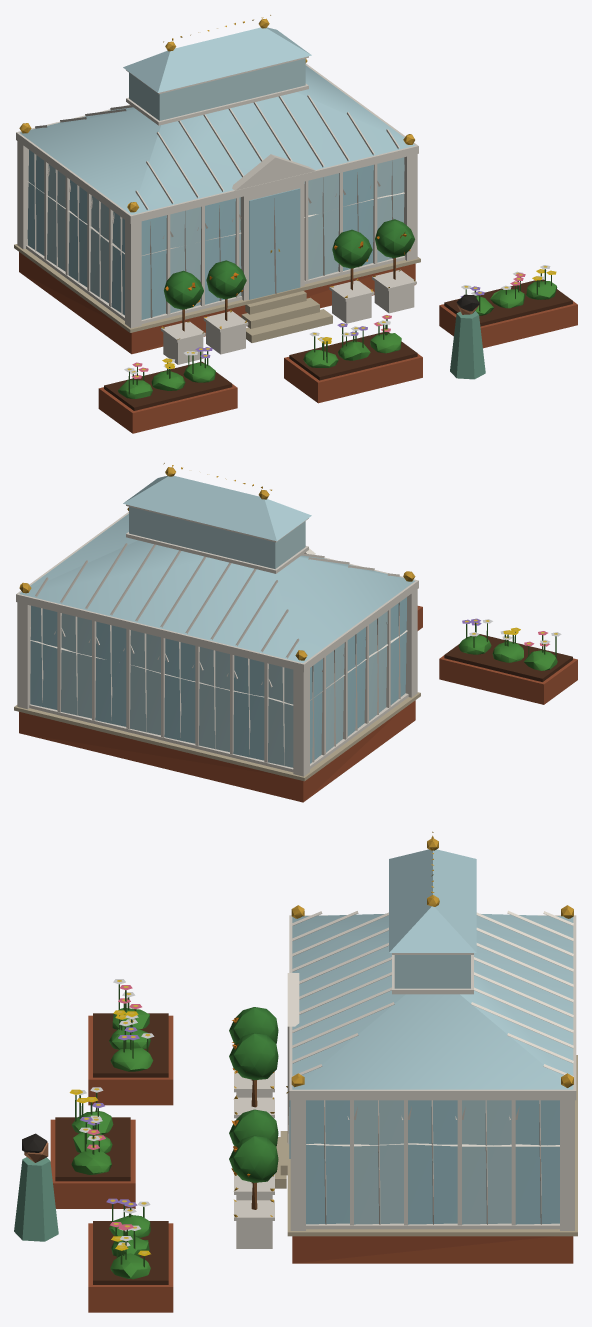
Rendered from glasshouse_garden.glb.
3 renders of one model, top to bottom at view 1: azimuth 30°, elevation 25°; view 2: azimuth 150°, elevation 25°; view 3: azimuth 270°, elevation 25°, orthographic. The views are drawn at different scales.
Visible parts, largest first — view 1: town-glasshouse_garden; view 2: town-glasshouse_garden; view 3: town-glasshouse_garden.
Part boxes in pixels (x1,y1,x2,y2): town-glasshouse_garden: (14, 15, 577, 433); town-glasshouse_garden: (14, 463, 577, 802); town-glasshouse_garden: (14, 831, 577, 1312).
Bounding box in the file's own units: 6.8 × 3.67 × 5.97.
